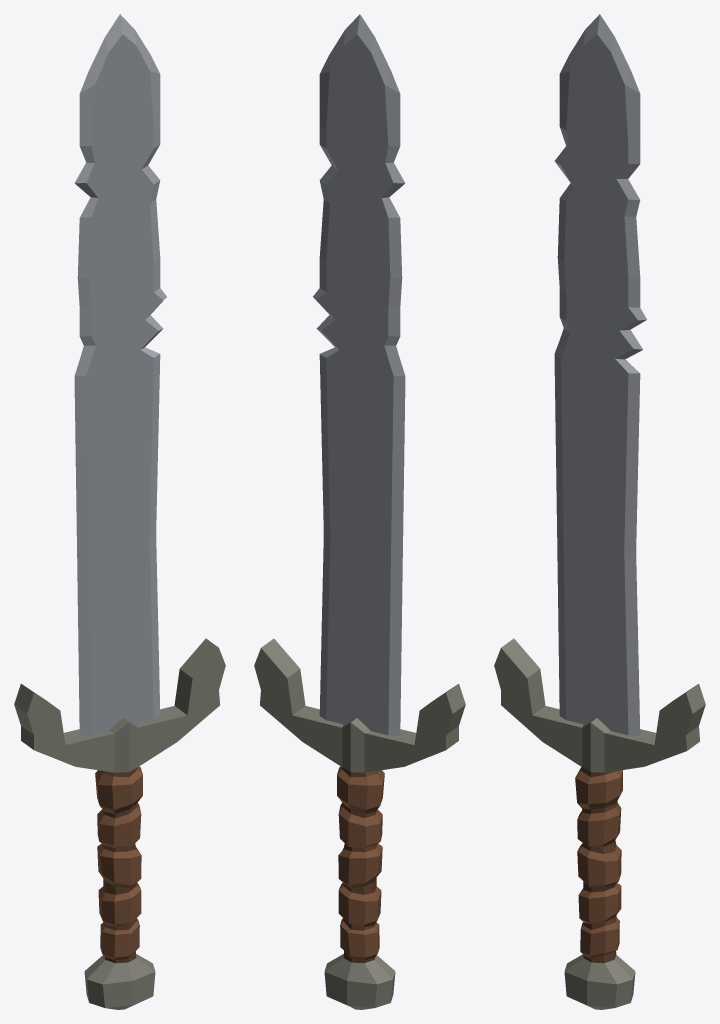
The model's file is Sword.gltf.
The picture shows the model from 3 angles, left to right: view 1: azimuth 30°, elevation 25°; view 2: azimuth 150°, elevation 25°; view 3: azimuth 330°, elevation 25°; orthographic projection.
Visible parts, largest first — view 1: Sword; view 2: Sword; view 3: Sword.
Part boxes in pixels (box(x1,y1,x2,y2)): Sword: box(14, 14, 225, 1009); Sword: box(254, 14, 465, 1009); Sword: box(494, 14, 705, 1009).
Bounding box in the file's own units: 1.14 × 5.45 × 0.2611.
